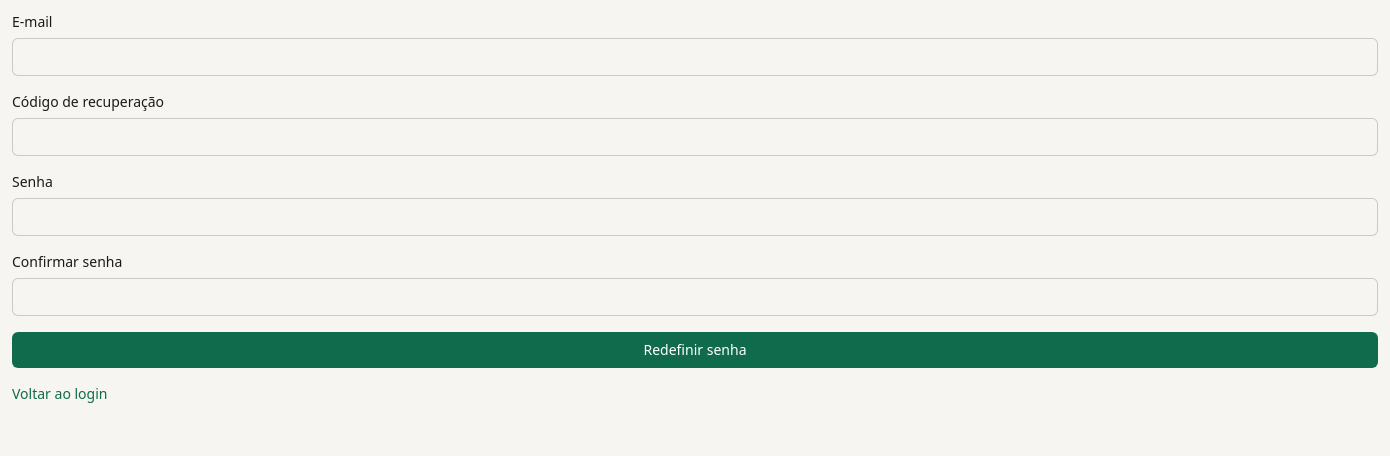
Test case: ResetPasswordForm (PW-09–11, PW-20, PW-22) › shows success message and navigates to /login on 200 with redirect_to (PW-09)
In the field labelled "E-mail": (695, 57) [12, 38, 1378, 76], type "User@Example.COM"
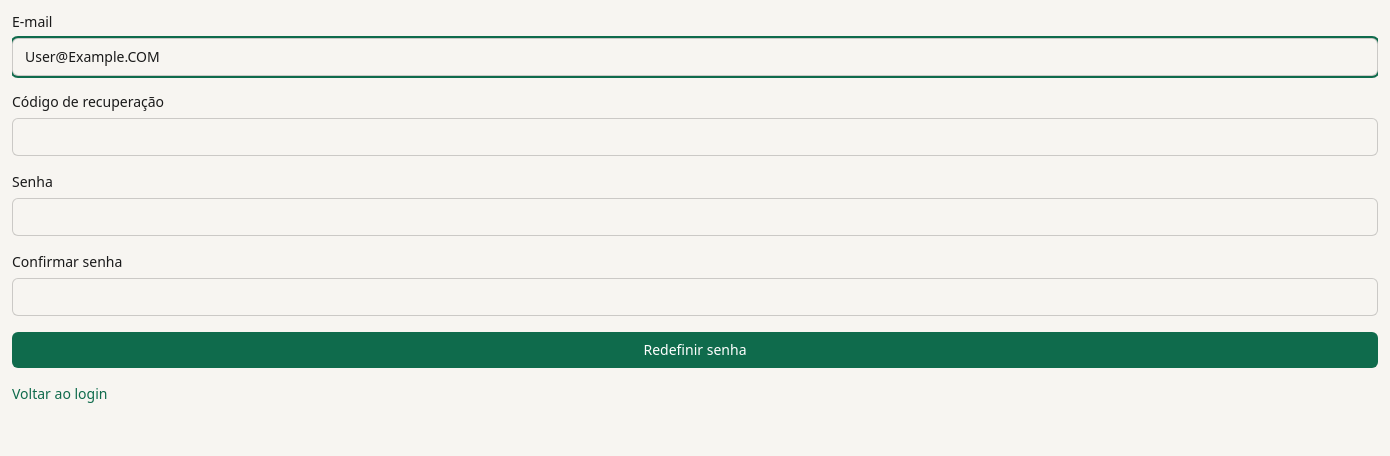
In the field labelled "Código de recuperação": (695, 137) [12, 118, 1378, 156], type "opaque-token"
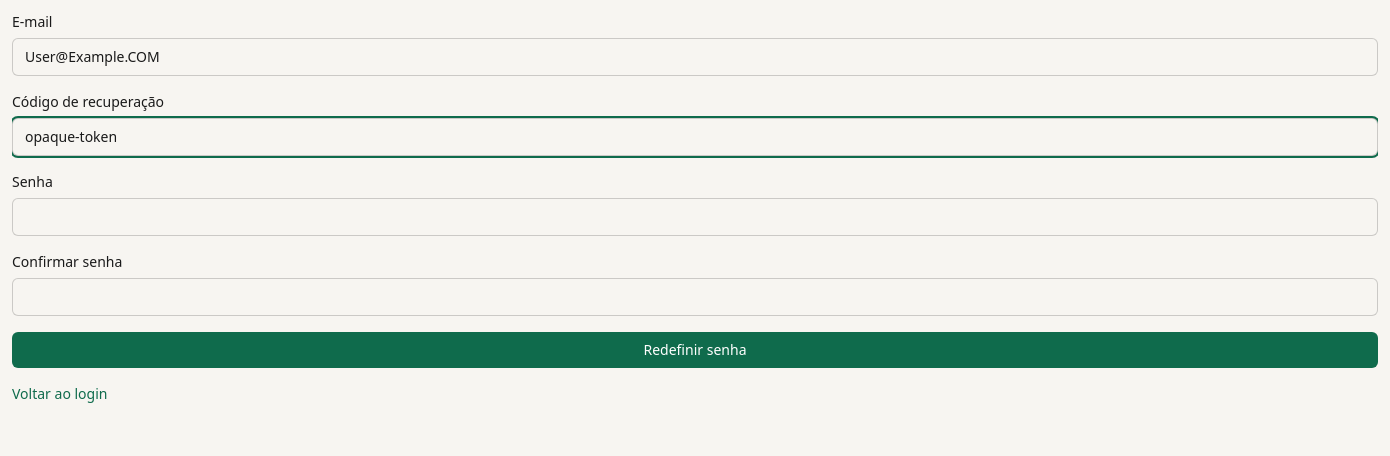
In the password field labelled "Senha": (695, 217) [12, 198, 1378, 236], type "Abcdefghij1!"
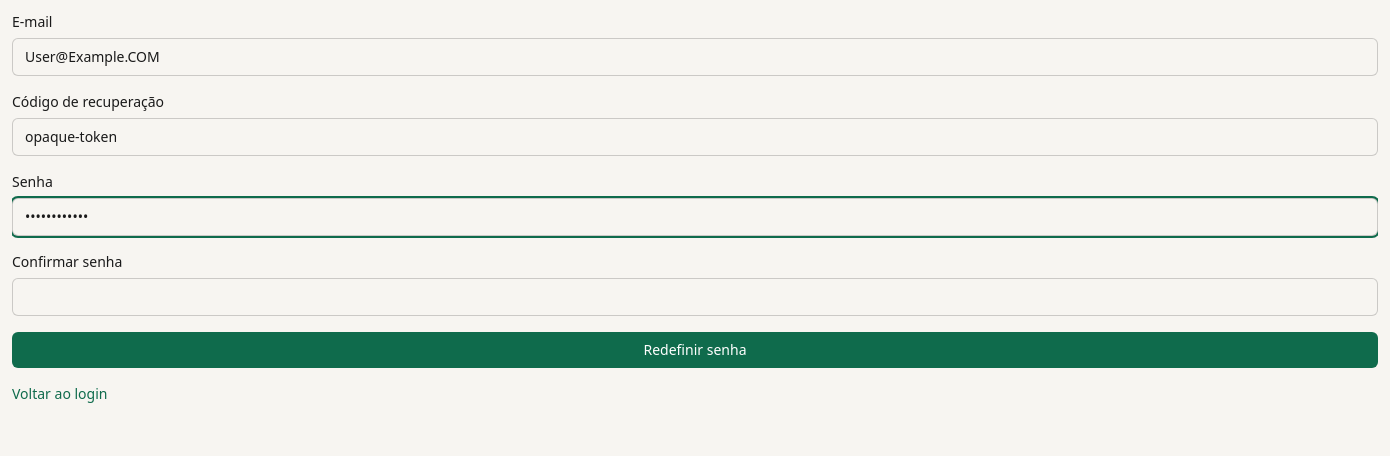
In the password field labelled "Confirmar senha": (695, 297) [12, 278, 1378, 316], type "Abcdefghij1!"
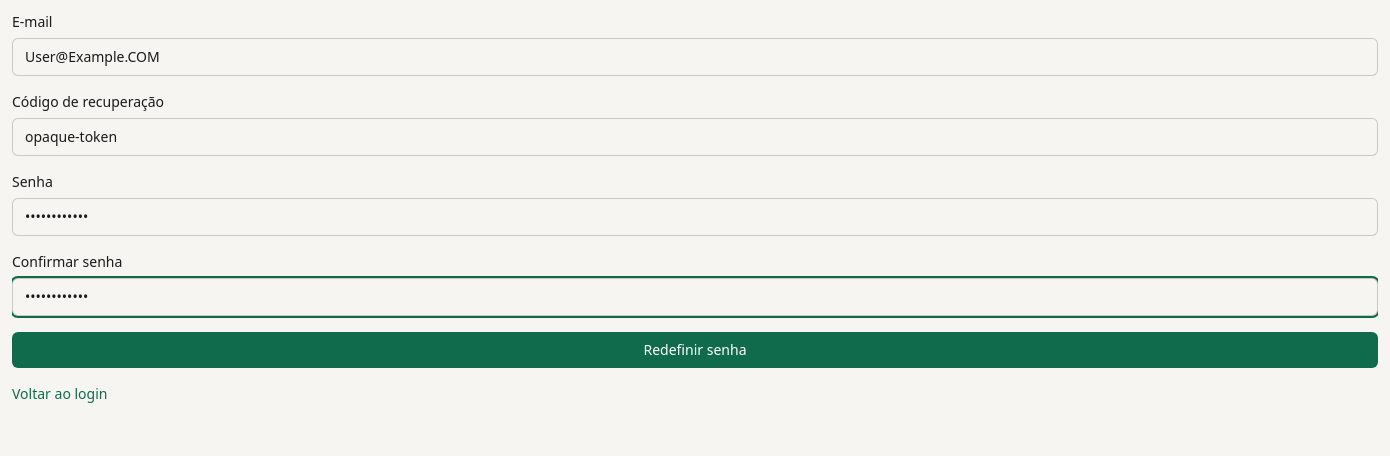
Click the button "Redefinir senha": (695, 350) [12, 332, 1378, 368]
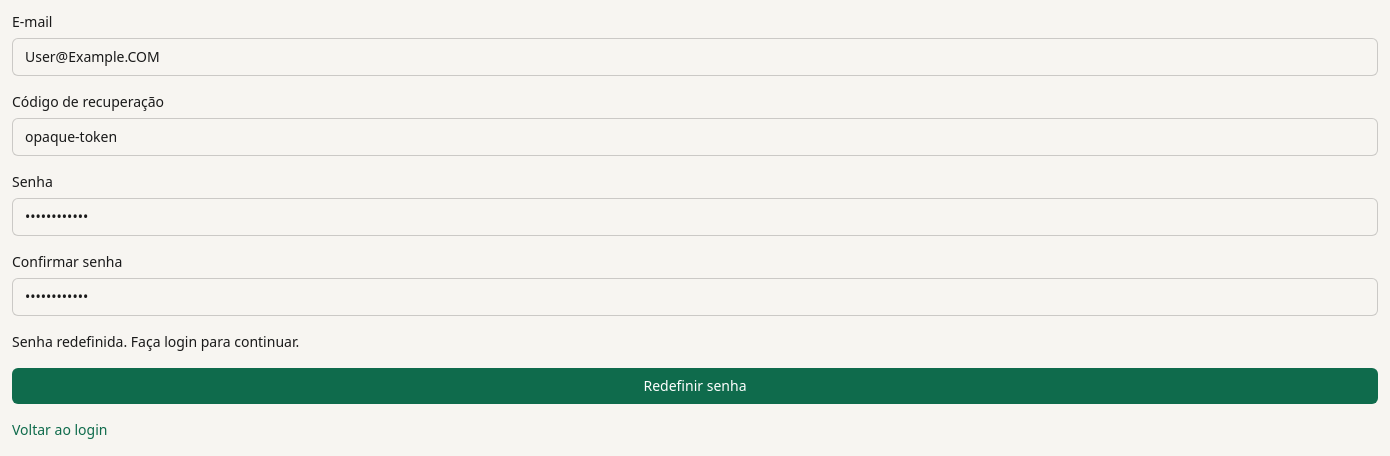
Now the message reads "Senha redefinida. Faça login para continuar.", box [12, 332, 299, 351]
